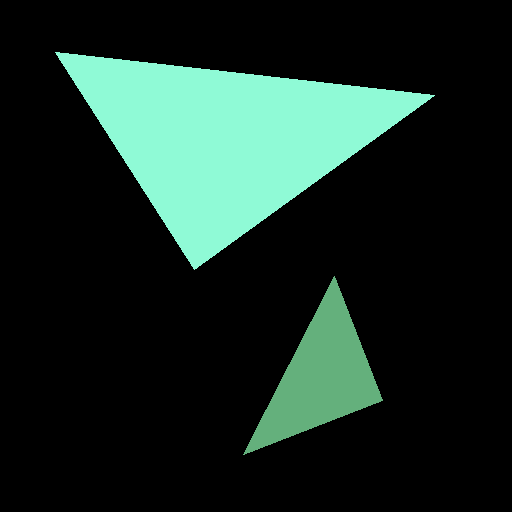triangle: (55, 52, 434, 269), (243, 276, 382, 454)
